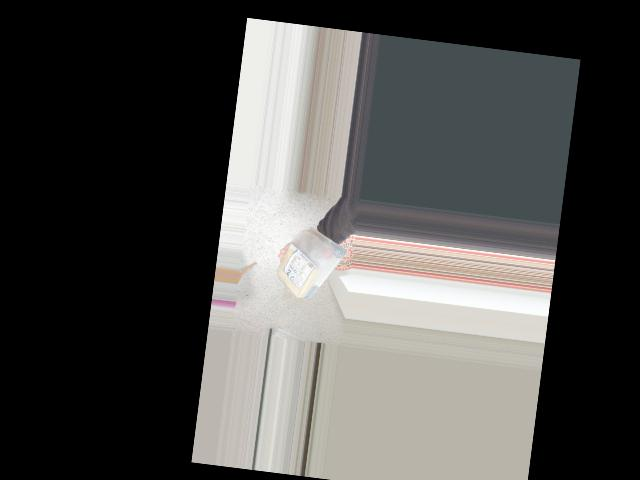cheese: (267, 220, 353, 308)
